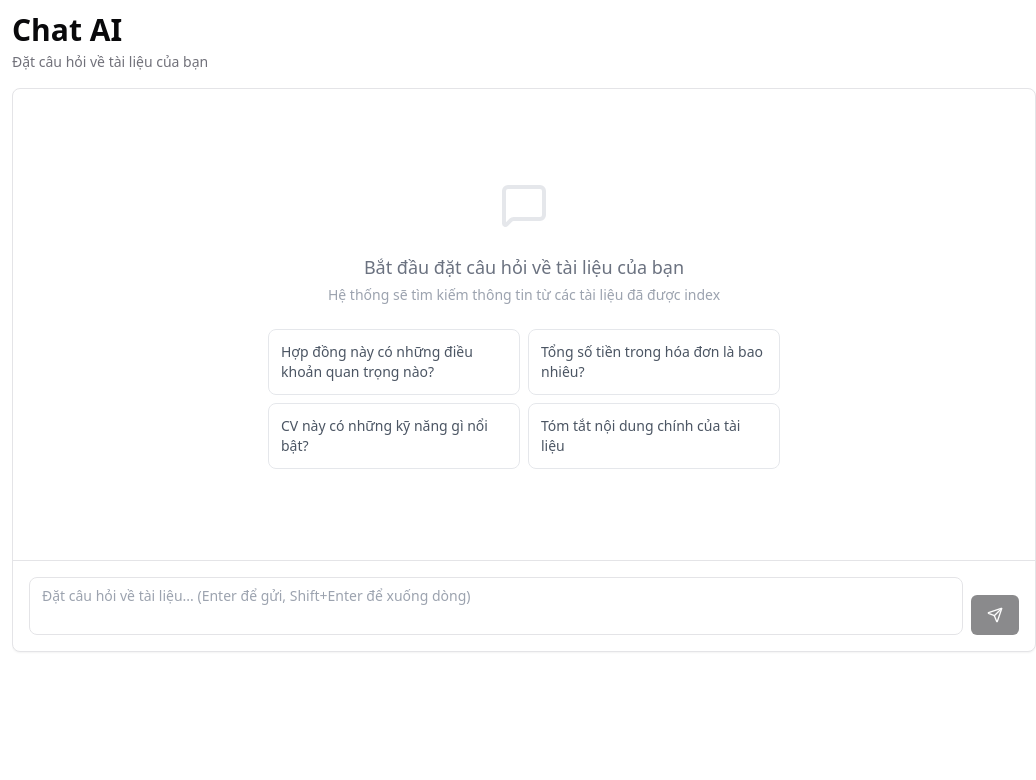
Test case: ChatPage › shows loading state while waiting for answer
Replace the text in the text box named "nhập câu hỏi" with "Test câu hỏi": (496, 606) [29,577,963,635]
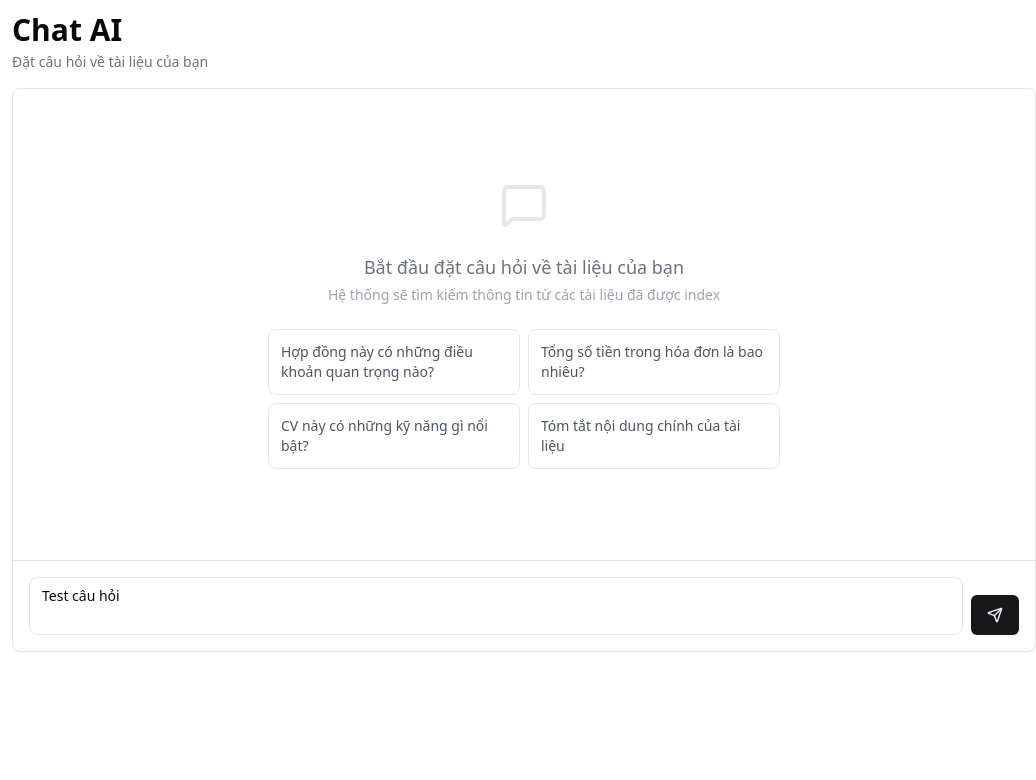
Click the button named "gửi tin nhắn": (995, 615) [971,595,1019,635]
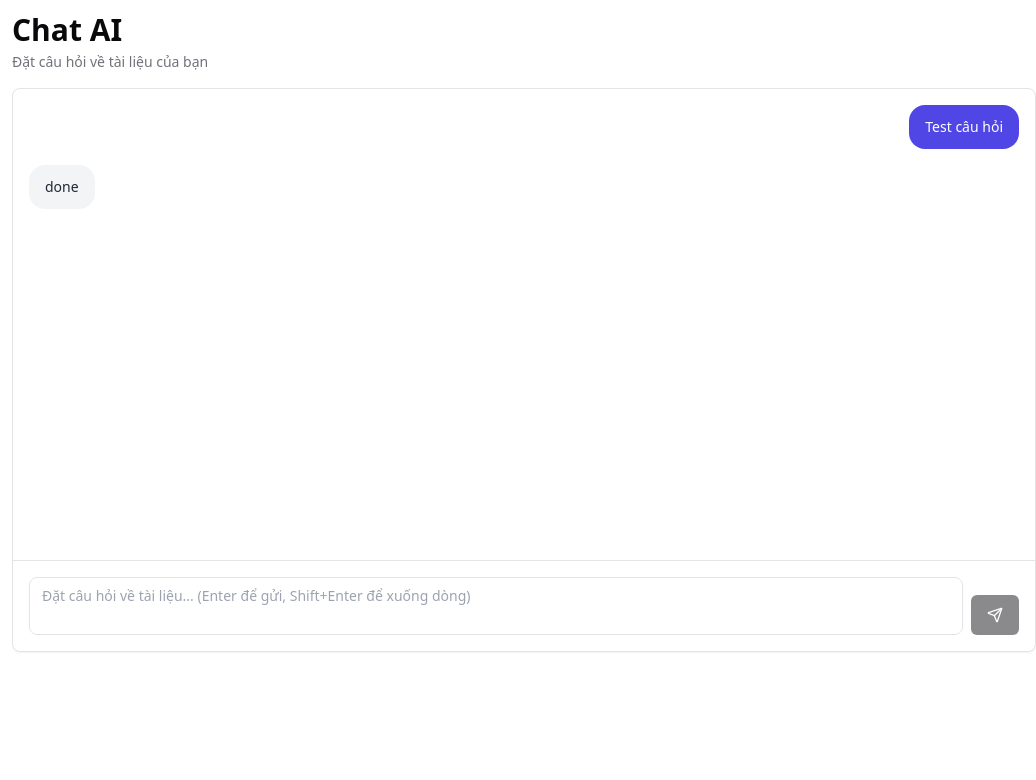
Now the text named "đang tải câu trả lời" is shown, box [45,177,79,197]
